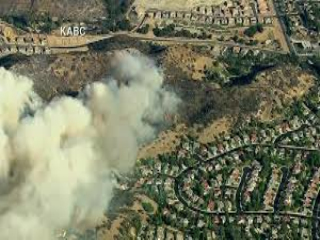smoke: (3, 67, 178, 231)
